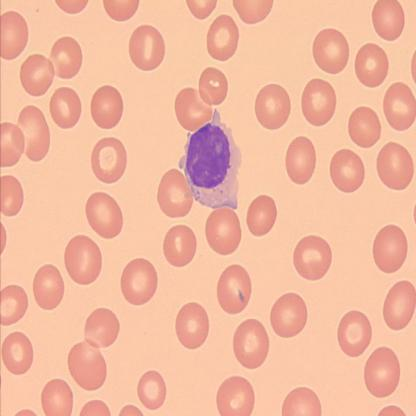Atypical lymphocyte: (177, 108, 240, 212)
